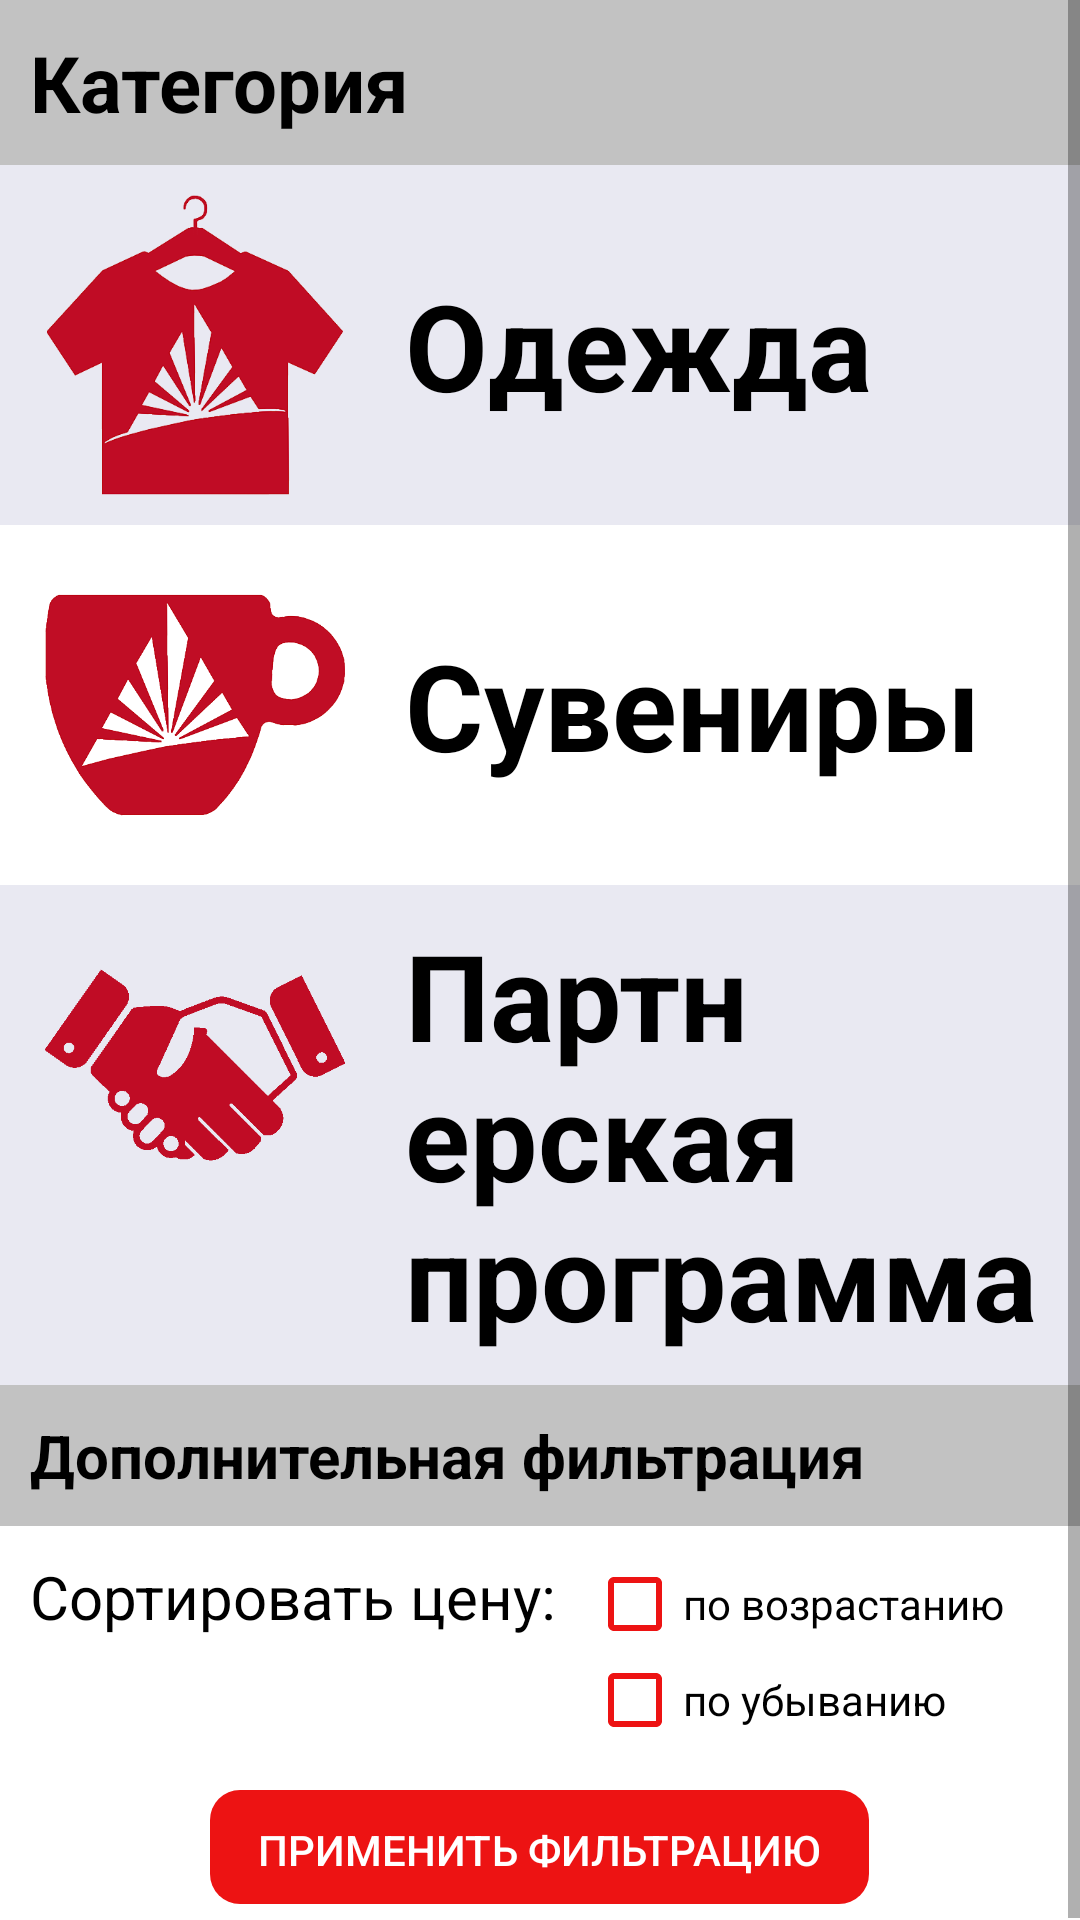

Point at icon controls on the screen. Image size 1080x1920, points as (x,y).
partner program: (195,1065)
